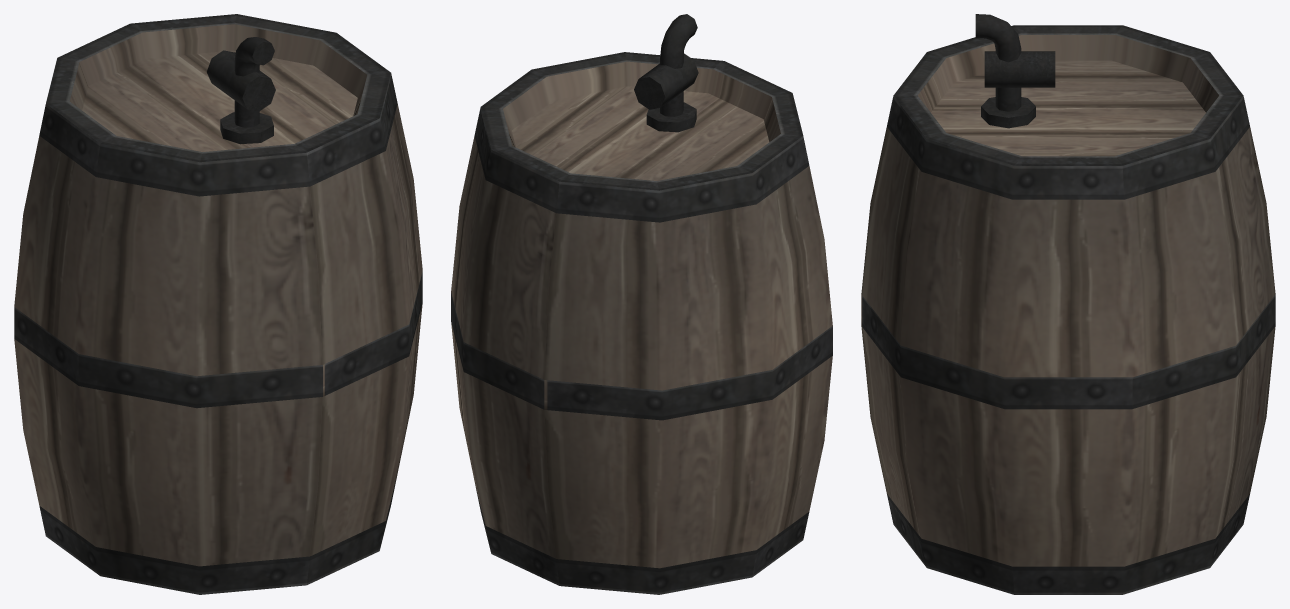
Rendered from Keg_B.fbx.
3 views of the same model, side by side, from view 1: azimuth 30°, elevation 25°; view 2: azimuth 150°, elevation 25°; view 3: azimuth 270°, elevation 25° (orthographic). The views are drawn at different scales.
Visible parts, largest first — view 1: Keg_B; view 2: Keg_B; view 3: Keg_B.
Part boxes in pixels (bbox=[...]): Keg_B: bbox=[14, 14, 422, 594]; Keg_B: bbox=[451, 14, 832, 594]; Keg_B: bbox=[861, 14, 1275, 594].
Bounding box in the file's own units: 1.03 × 1.46 × 1.08.
